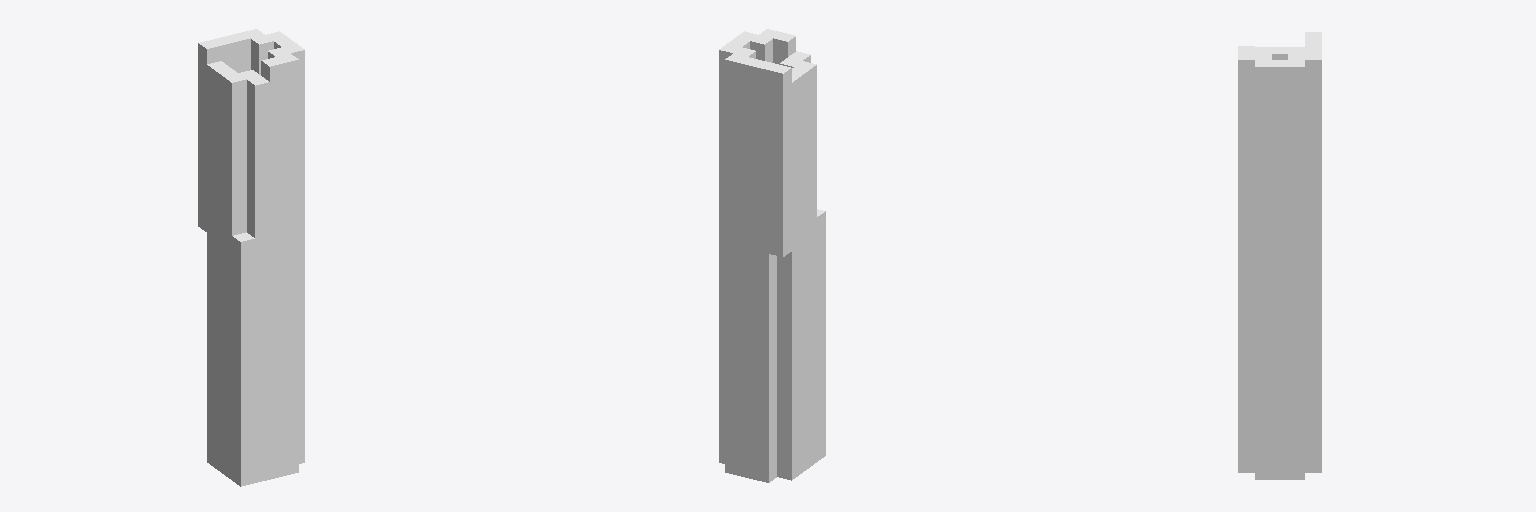
File: upper_leg.obj
3 views of the same model, side by side, from view 1: azimuth 30°, elevation 25°; view 2: azimuth 150°, elevation 25°; view 3: azimuth 270°, elevation 25° (orthographic).
Visible parts, largest first — view 1: Ida; view 2: Ida; view 3: Ida.
Part boxes in pixels (x1,y1,x2,y2): Ida: (198,29,304,486); Ida: (719,29,825,482); Ida: (1238,32,1321,479).
Bounding box in the file's own units: 0.5 × 2.7 × 0.5.